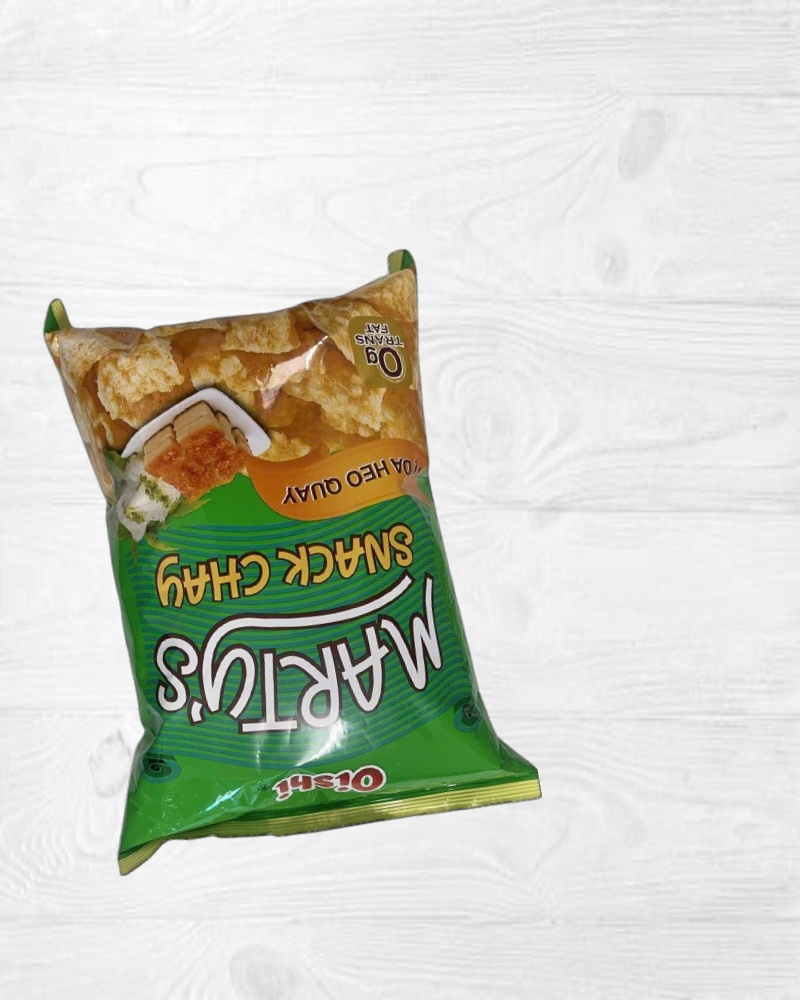Snack chay: (41, 233, 542, 873)
